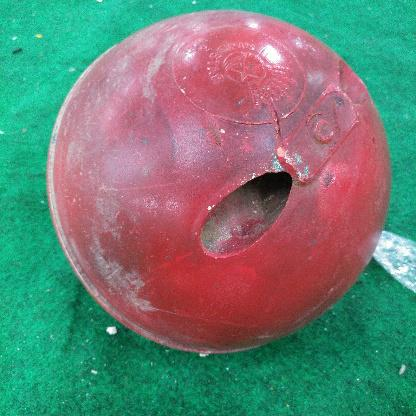red_buoy: (46, 6, 398, 357)
